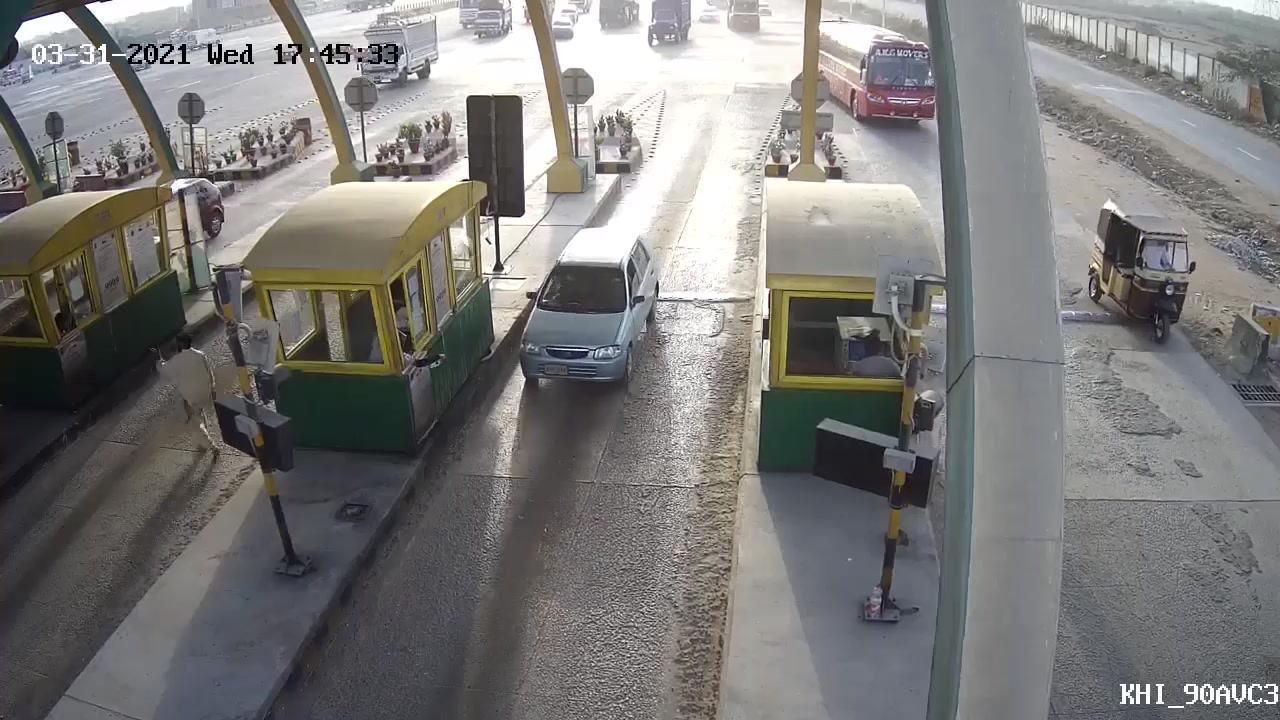F1: (508, 227, 664, 413)
